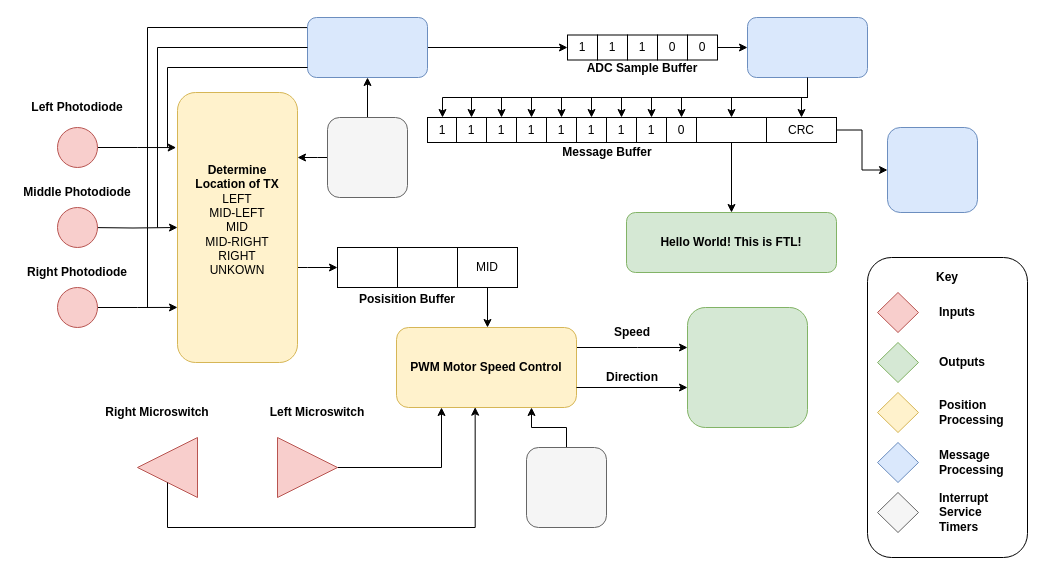
Some shapes in this 1045 by 575 pixel diagram are drawn without their labels. The shapes that lost their labels are listed below. From the top down, each one's centre as x and y in pixels, then its label:
(x=367, y=47): ADC Sample 1 OR 0
(x=807, y=47): Bit Vote 5 Samples = 1 Bit
(x=731, y=129): Payload
(x=367, y=157): ADC ISR Timer 40k Hz
(x=932, y=169): CRC Checker
(x=367, y=267): LEFT
(x=427, y=267): MID LEFT
(x=747, y=367): Servo Motor
(x=566, y=487): Motor Control ISR Timer 80 Hz
